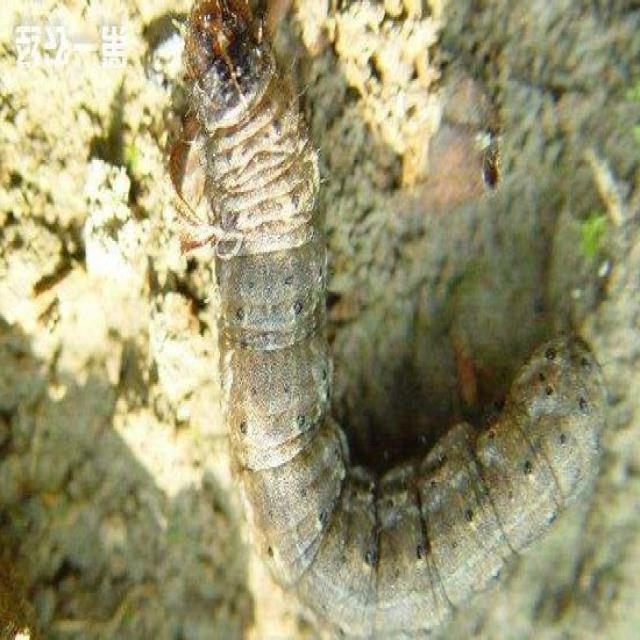black cutworm: (169, 10, 613, 640)
